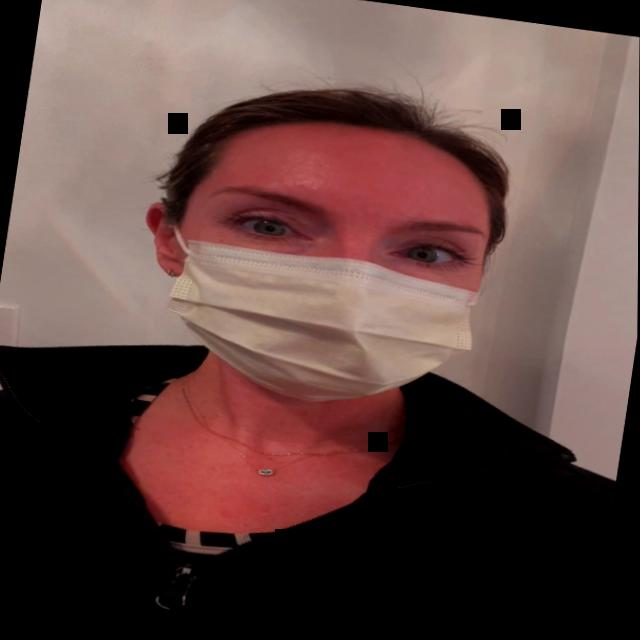Mask: (99, 73, 542, 453)
